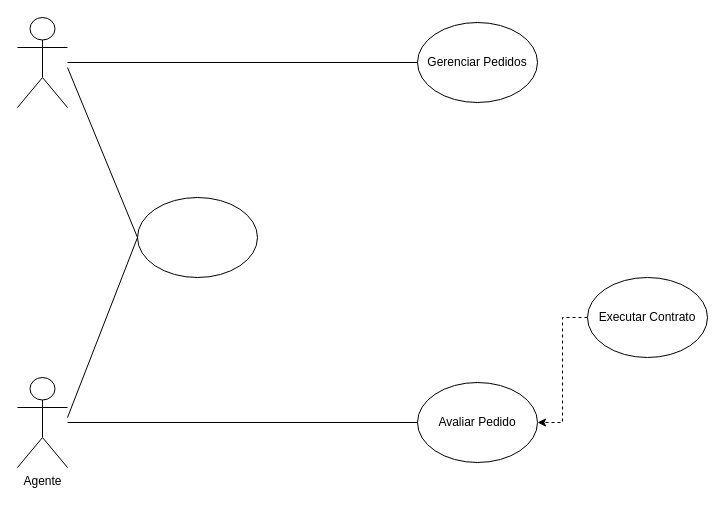
The diagram is 725 pixels wide and 521 high, and some of its shapes have lost their labels. The box of each missing label's shape, as (x1, y1, x2, y2) in pixels:
Cliente: (16, 16, 68, 108)
Efetuar Cadastro: (136, 196, 258, 278)
